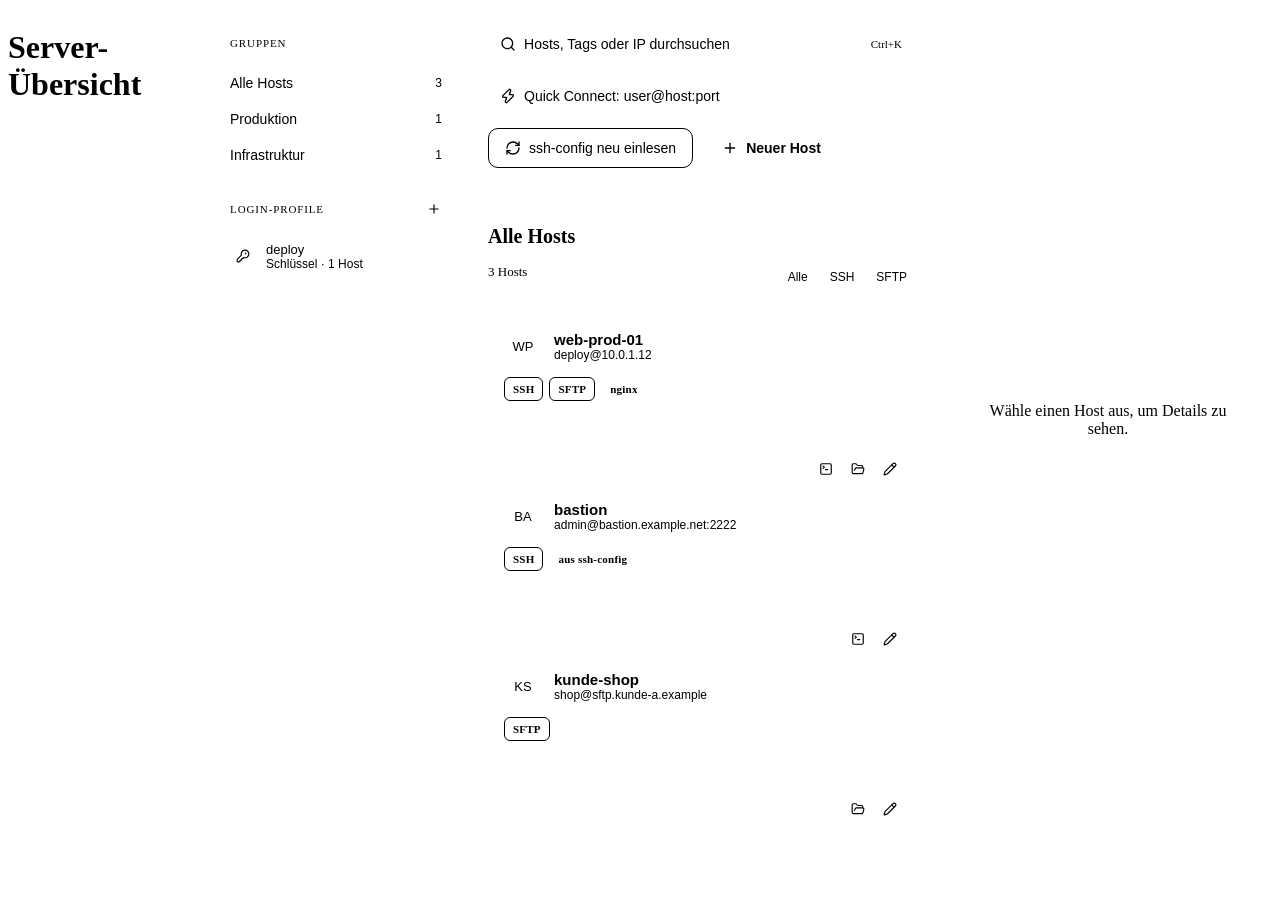
Test: HostsScreen › deletes a host after confirmation, but never ssh-config hosts
The image size is (1280, 900).
Click the button with aria-label "bastion auswählen" at (704, 516), box [504,497,904,535]
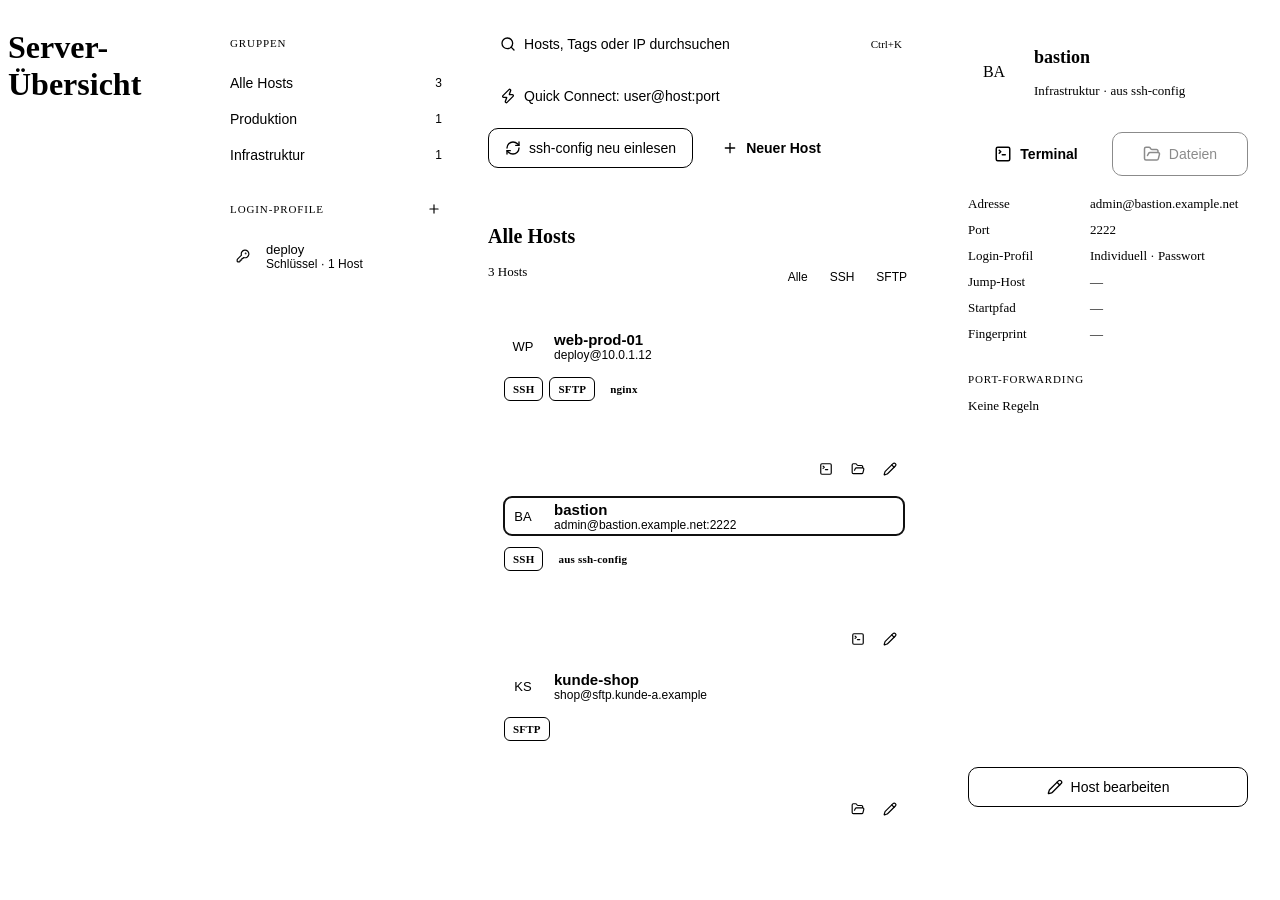
Check: the button "Löschen" is not shown
Click the button with aria-label "kunde-shop auswählen" at (704, 686), box [504,667,904,705]
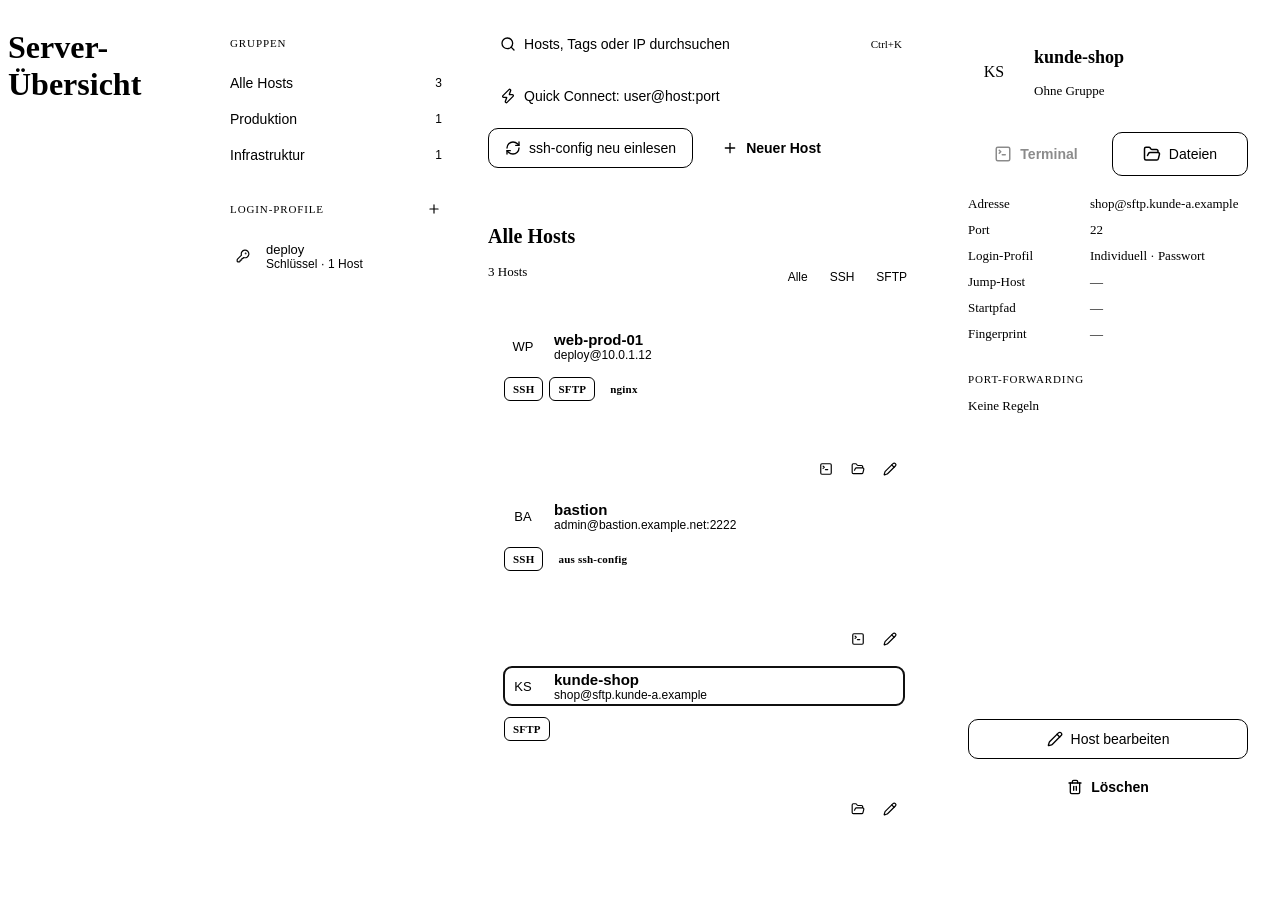
Click the button "Löschen" at (1108, 787), box [968,767,1248,807]
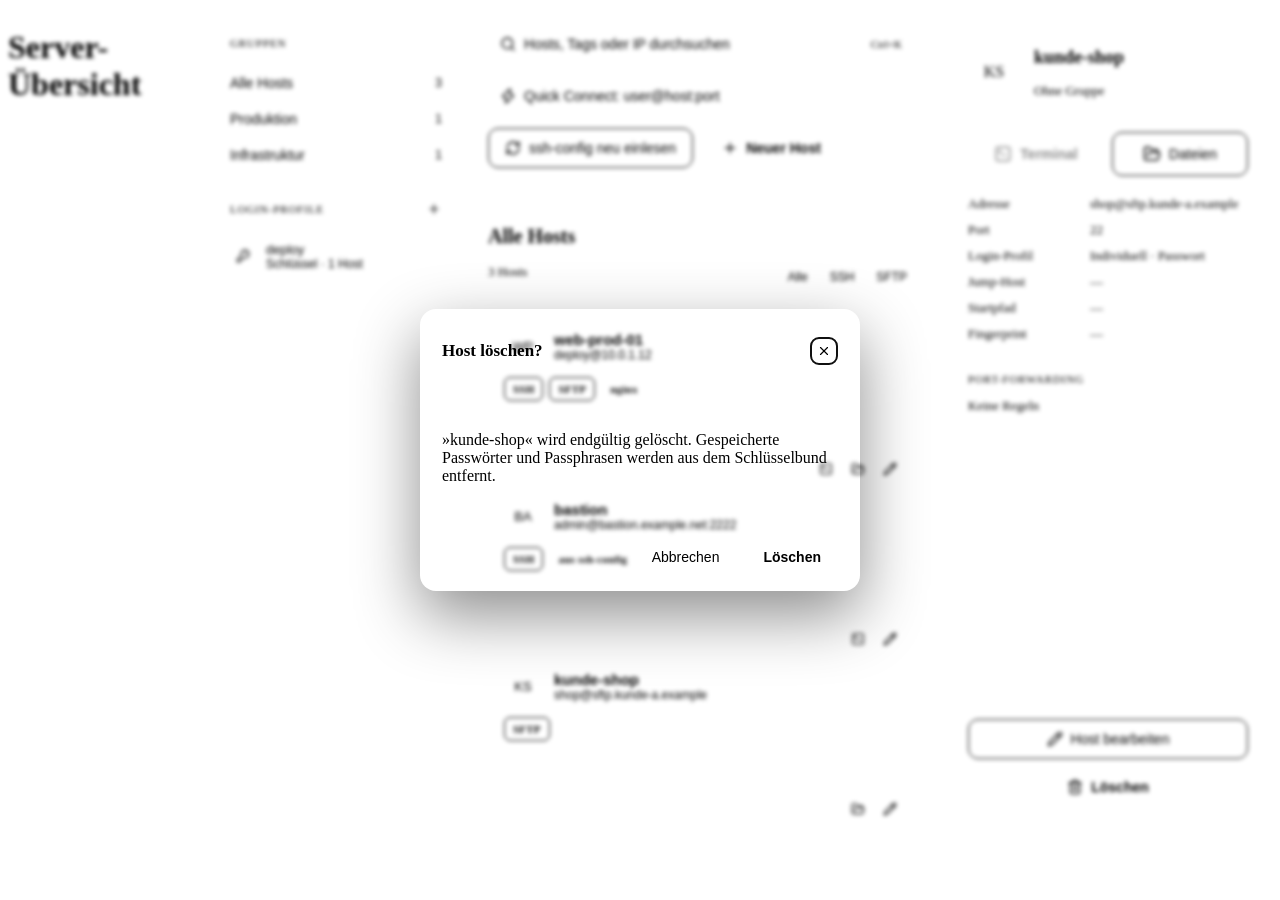
Check: the dialog "Host löschen?" shows "»kunde-shop« wird endgültig gelöscht.", box [442,431,827,484]
Click the button "Löschen" at (792, 557), box [746,537,838,577]
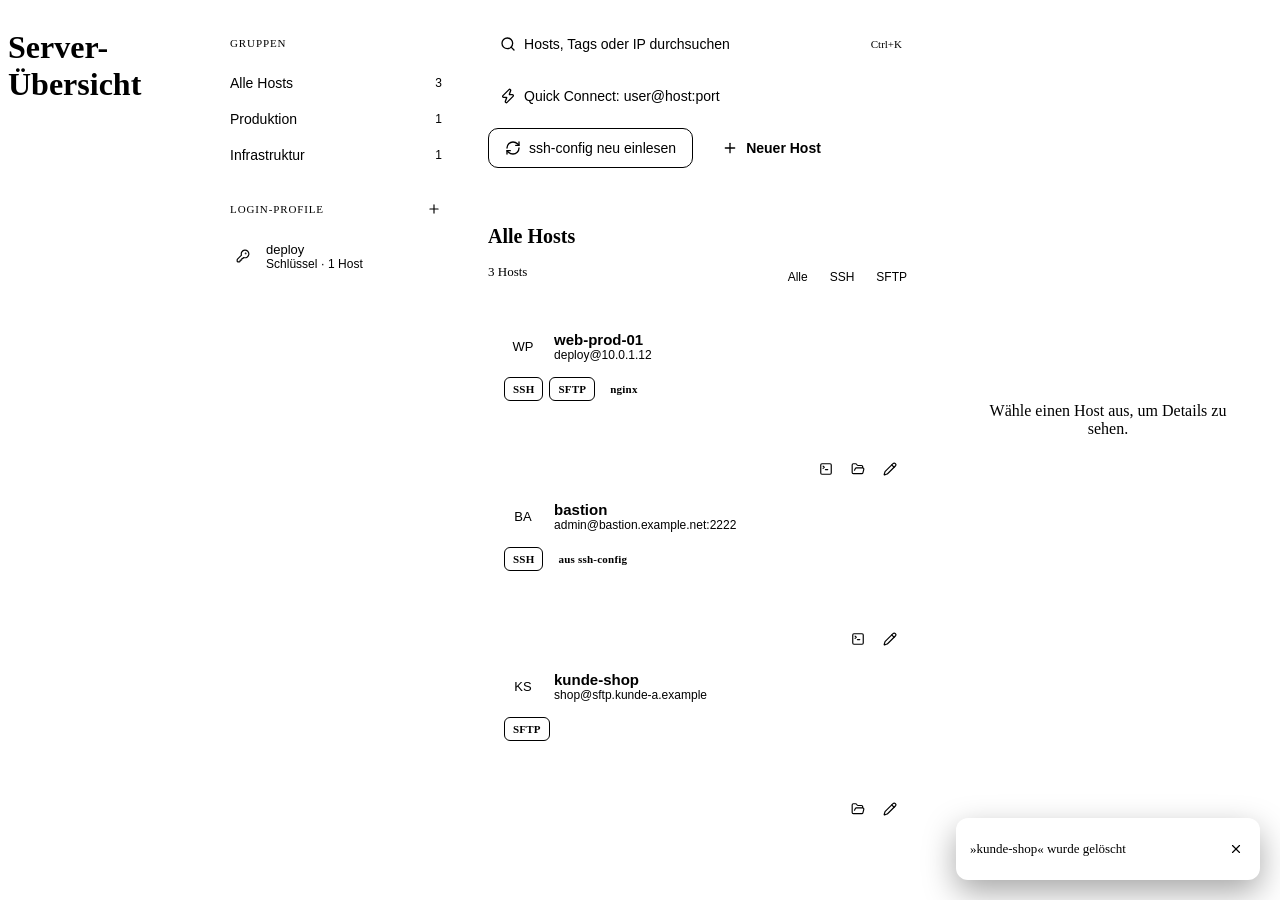
Check: the text "»kunde-shop« wurde gelöscht" is shown, box [970,841,1126,856]
